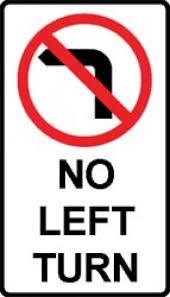no_left_turn: (15, 12, 151, 147)
